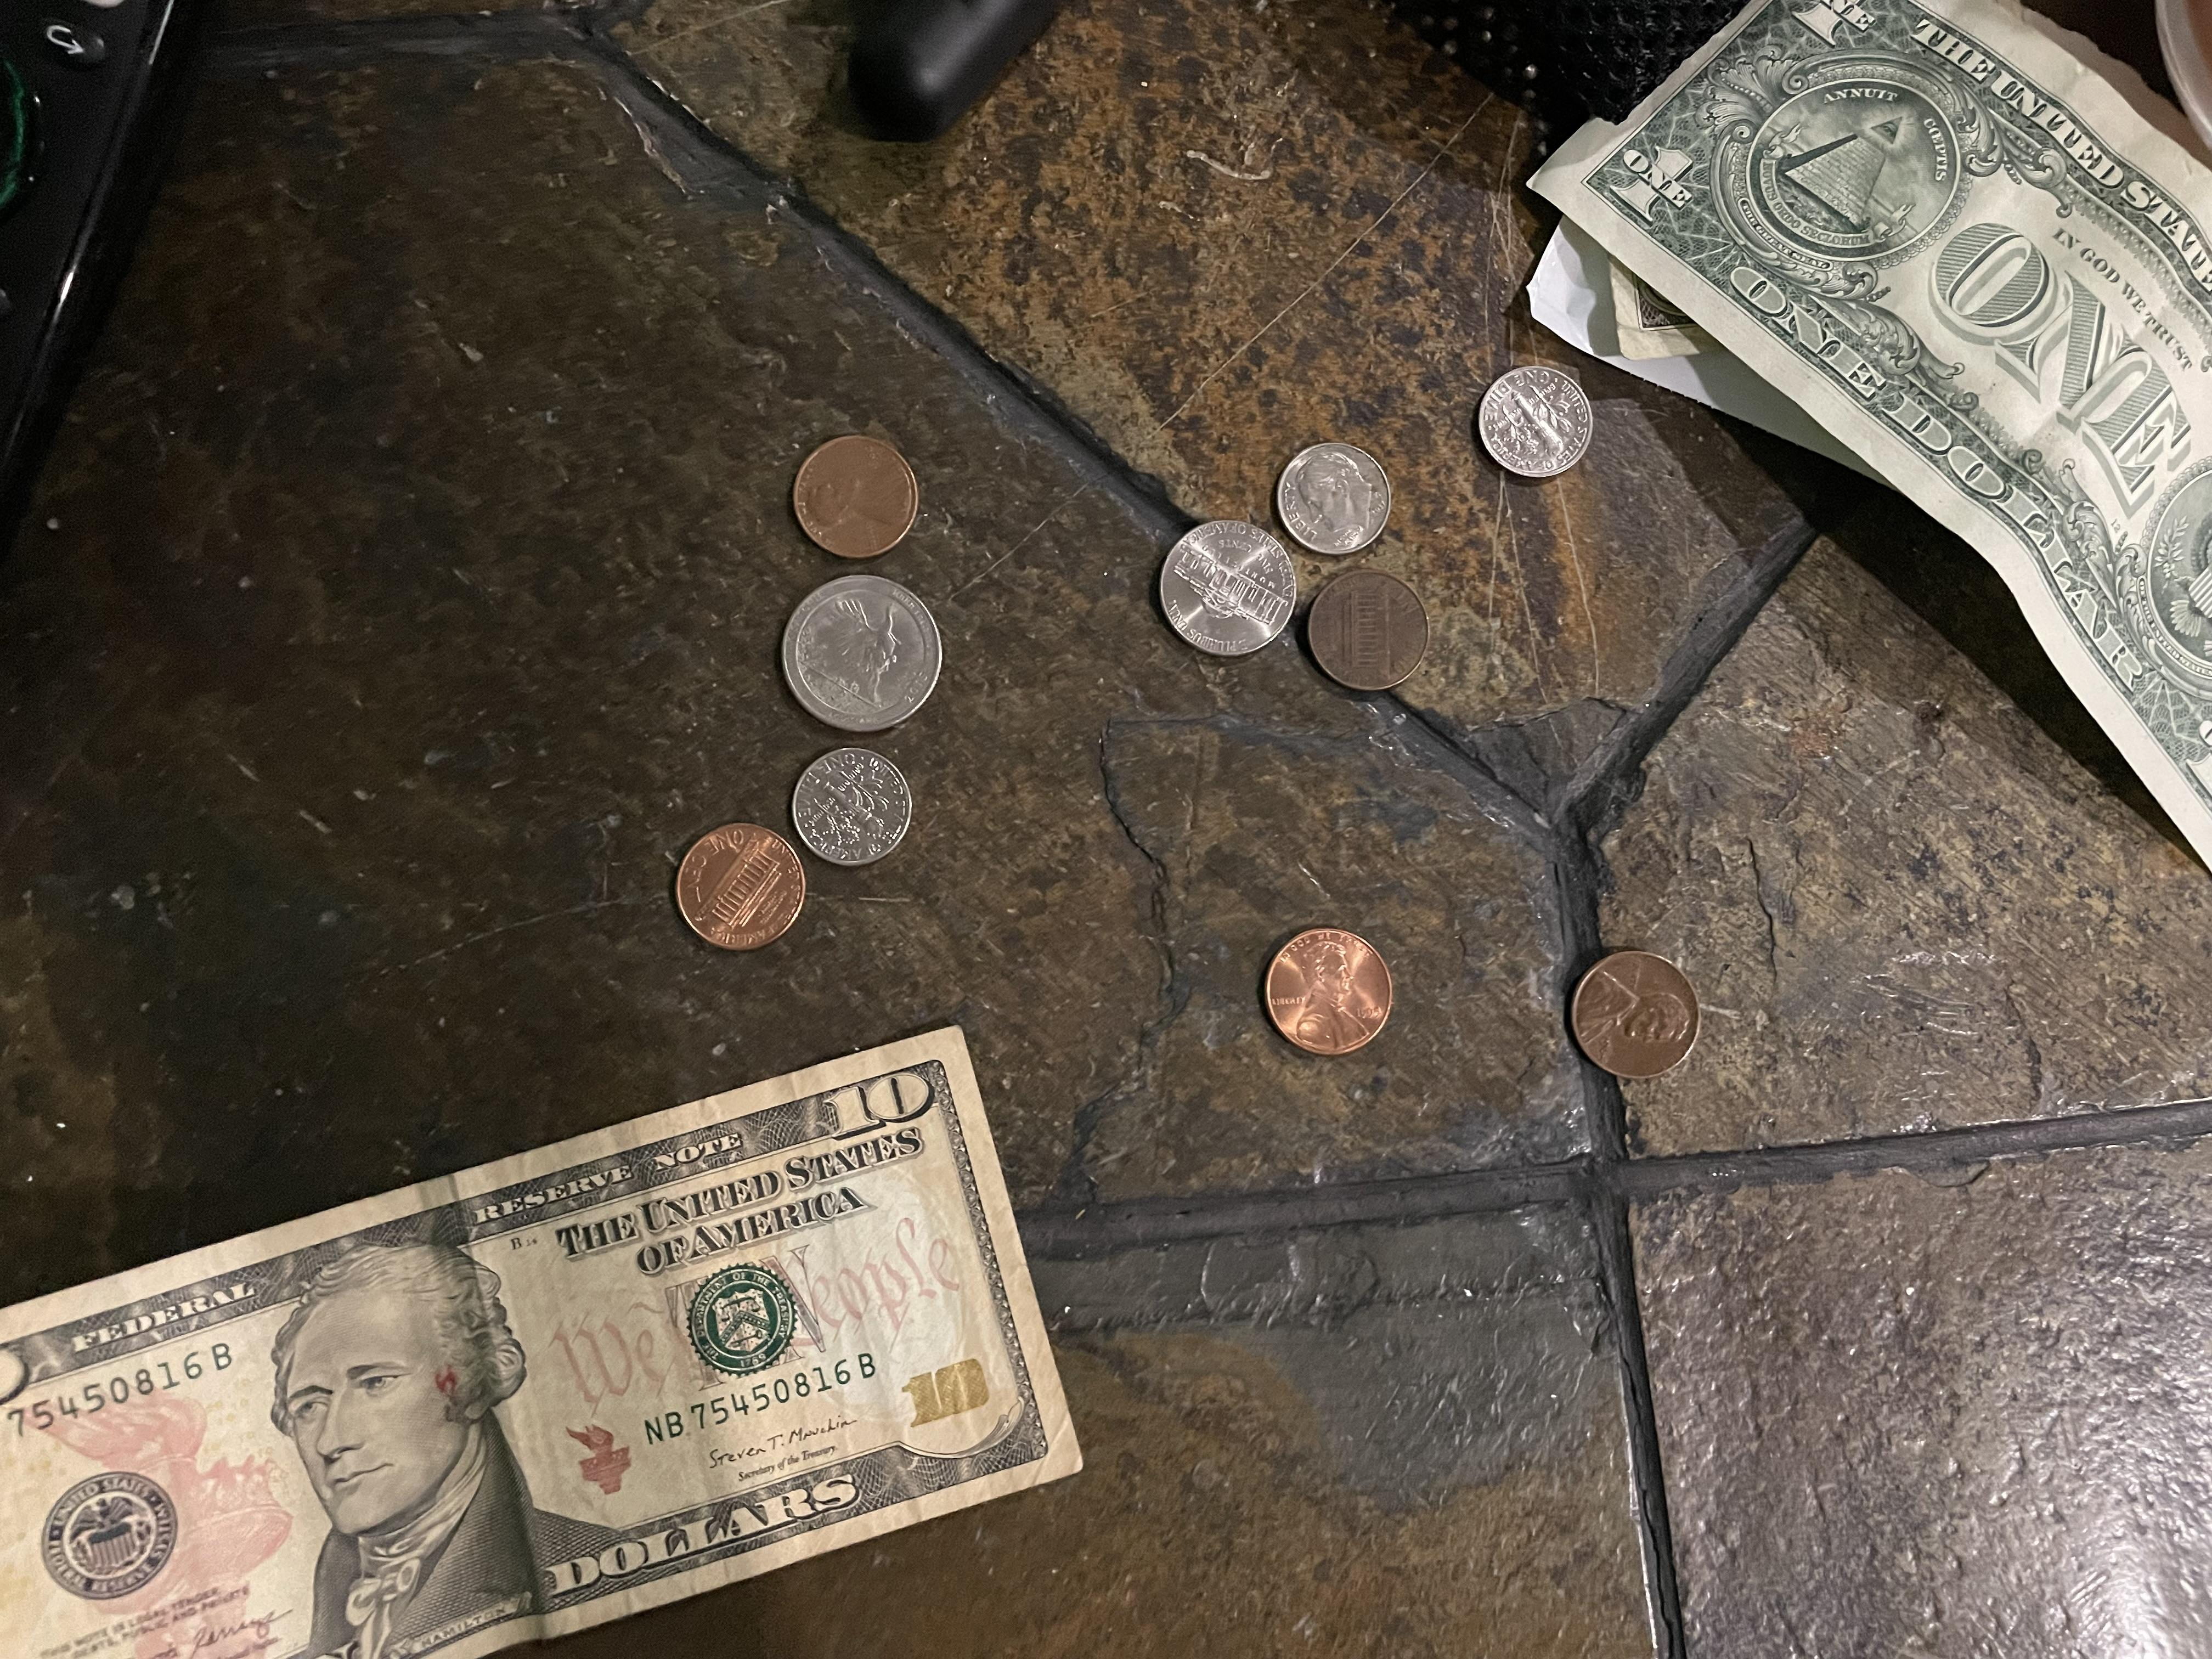Dime: (1470, 350, 1609, 486), (1261, 441, 1402, 565), (780, 737, 923, 859)
Nickel: (1143, 521, 1289, 673)
OneBill: (1561, 0, 2210, 850)
Penny: (1561, 957, 1730, 1079), (657, 824, 819, 943), (1264, 927, 1397, 1070), (791, 423, 923, 558)
Quarter: (770, 570, 956, 727)
TenBill: (5, 995, 1090, 1657)
